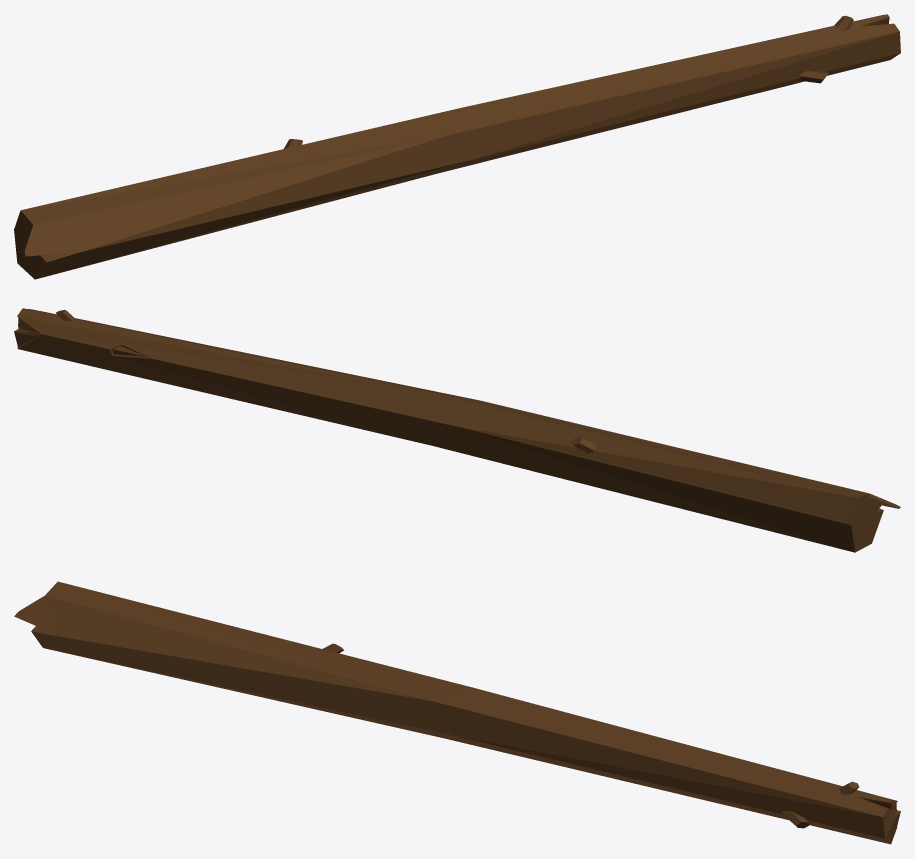
The model's file is tree-beech-log-a.gltf.
3 views of the same model, one above another, from view 1: azimuth 30°, elevation 25°; view 2: azimuth 150°, elevation 25°; view 3: azimuth 330°, elevation 25° (orthographic). The views are drawn at different scales.
Visible parts, largest first — view 1: tree-beech-log-a; view 2: tree-beech-log-a; view 3: tree-beech-log-a.
Part boxes in pixels (x1,y1,x2,y2): tree-beech-log-a: [14, 14, 900, 279]; tree-beech-log-a: [14, 308, 900, 552]; tree-beech-log-a: [14, 581, 900, 844].
Bounding box in the file's own units: 0.0474 × 0.00302 × 0.0036.
